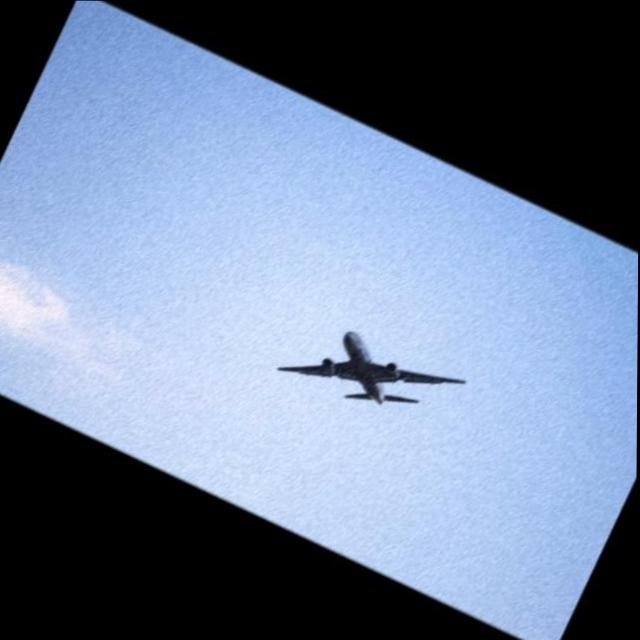airplane: (277, 326, 473, 409)
